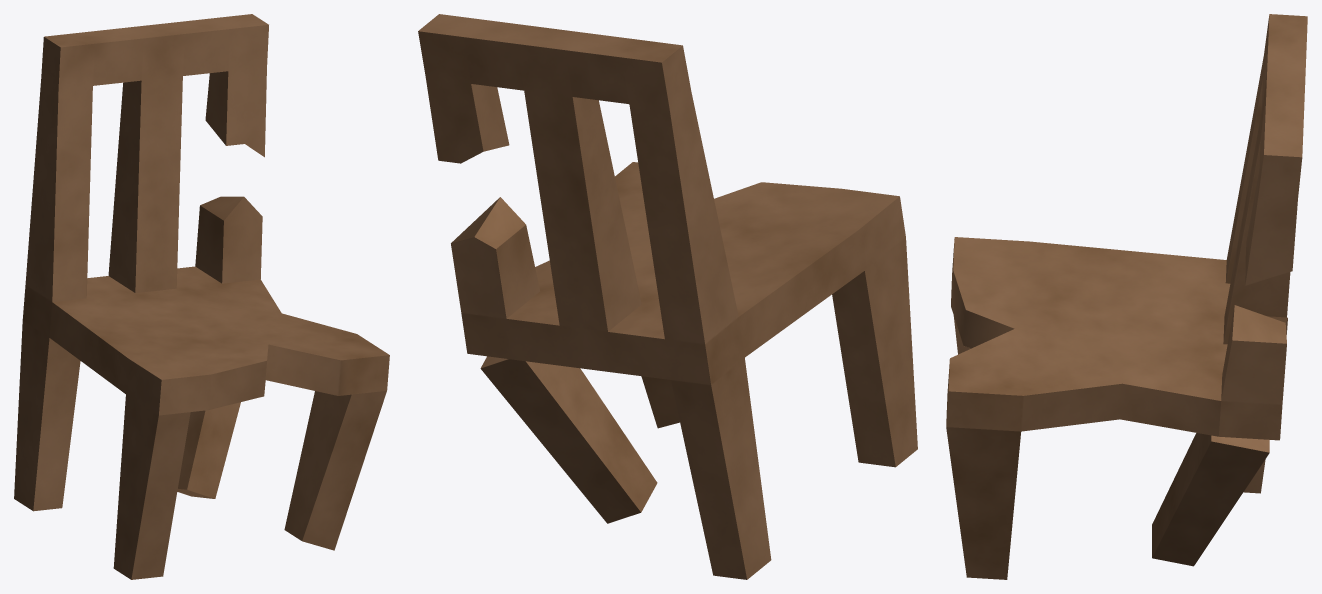
The model's file is Chair_Broken.fbx.
3 renders of one model, left to right at view 1: azimuth 30°, elevation 25°; view 2: azimuth 150°, elevation 25°; view 3: azimuth 270°, elevation 25°, orthographic. The views are drawn at different scales.
Visible parts, largest first — view 1: polySurface1; view 2: polySurface1; view 3: polySurface1.
Part boxes in pixels (x1,y1,x2,y2): polySurface1: (14, 14, 389, 579); polySurface1: (418, 14, 917, 579); polySurface1: (946, 14, 1307, 579).
Bounding box in the file's own units: 56.51 × 89.86 × 58.94.
